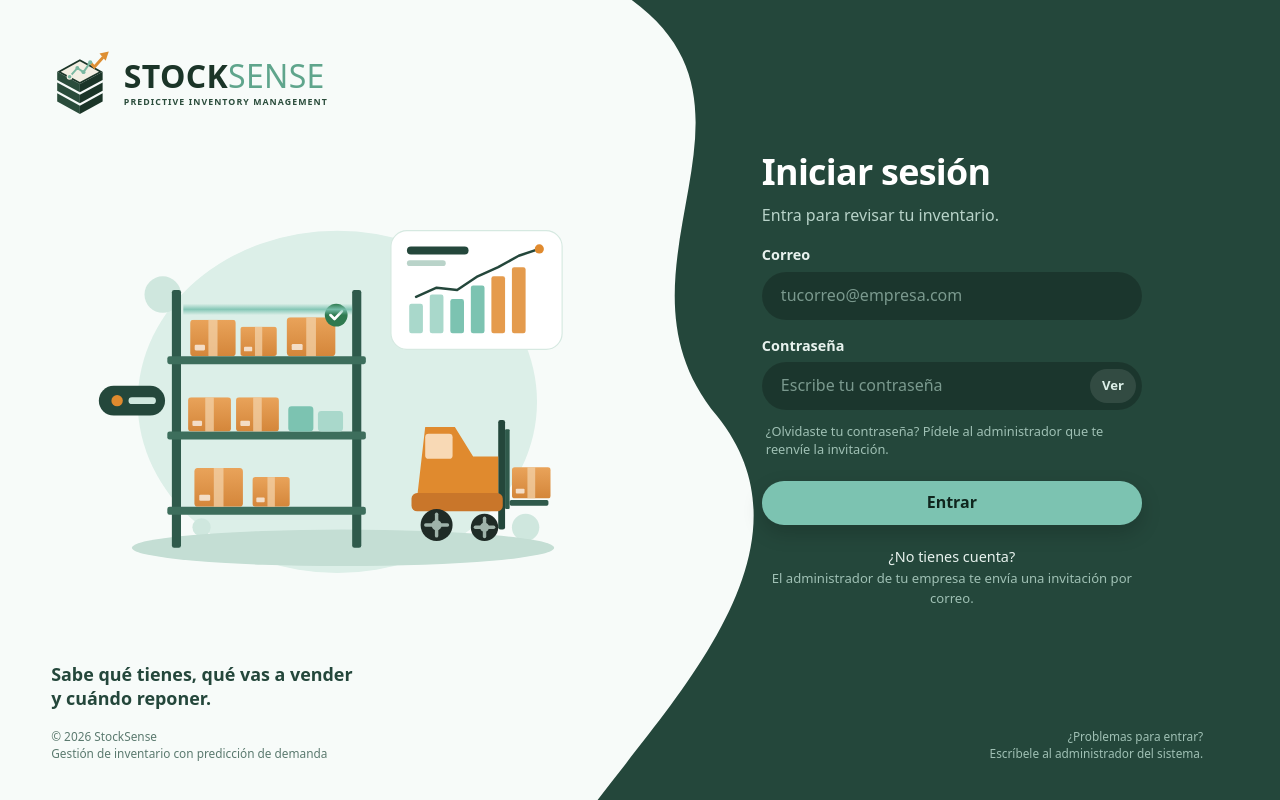
Test: Pantalla de login (T-01.3) › muestra el mensaje de bloqueo que envía la API
Type "laura@x.co" into the field labelled "Correo" at (952, 296), box [762,272,1142,320]
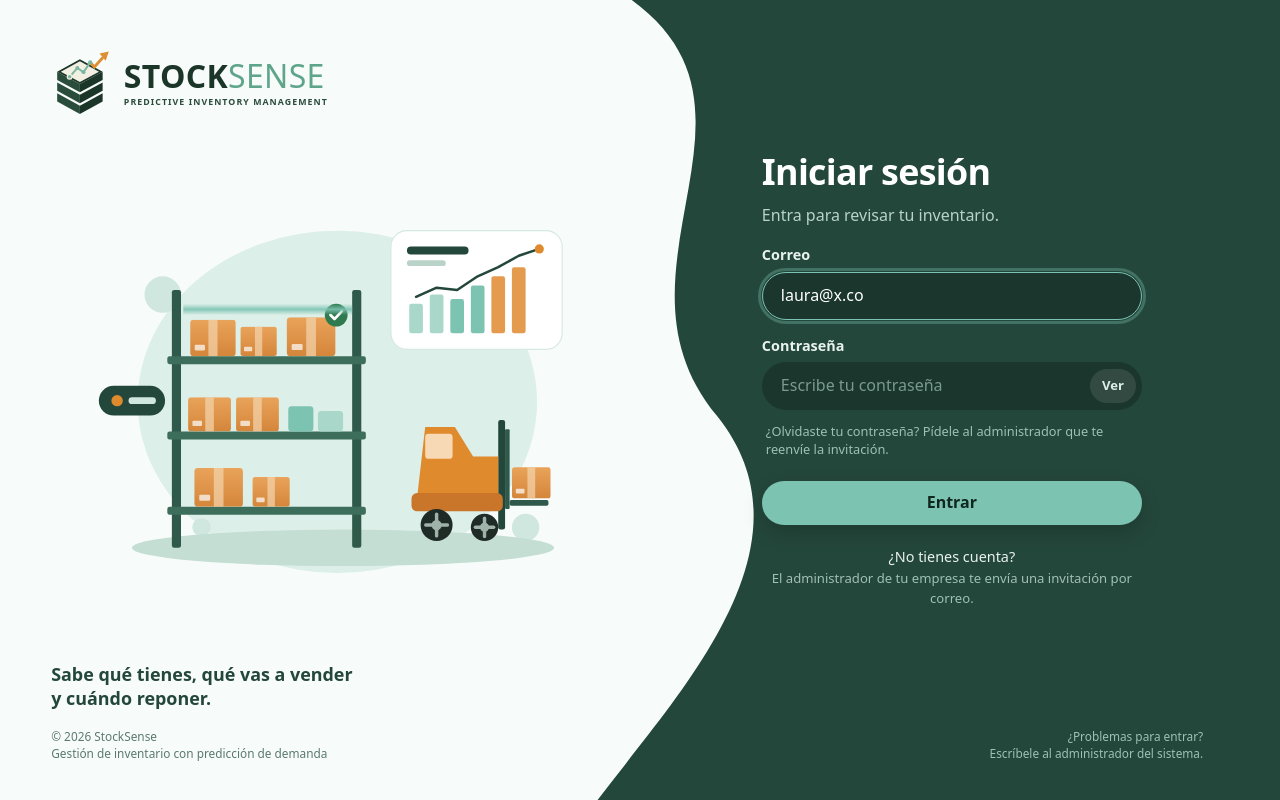
Type "algo" into the password field labelled "Contraseña" at (952, 386), box [762,362,1142,410]
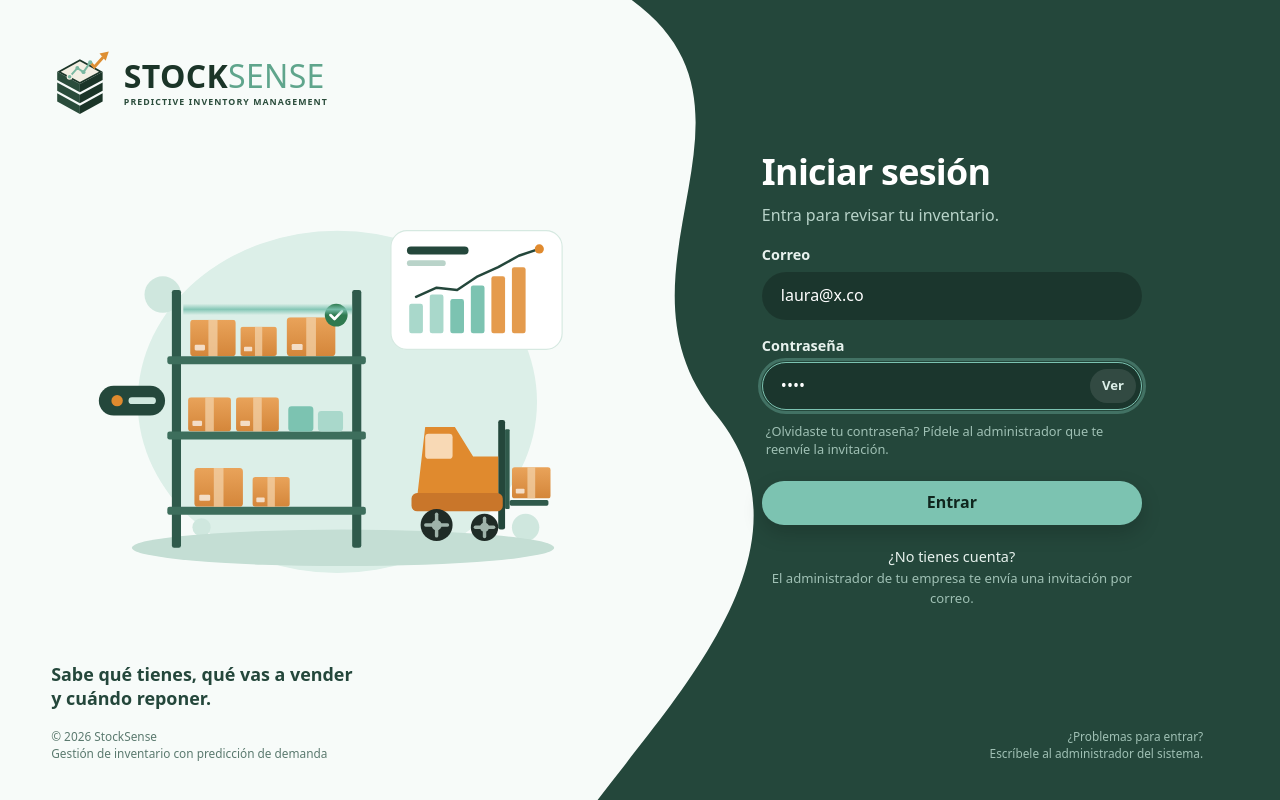
Click the button "Entrar" at (952, 503), box [762,481,1142,525]
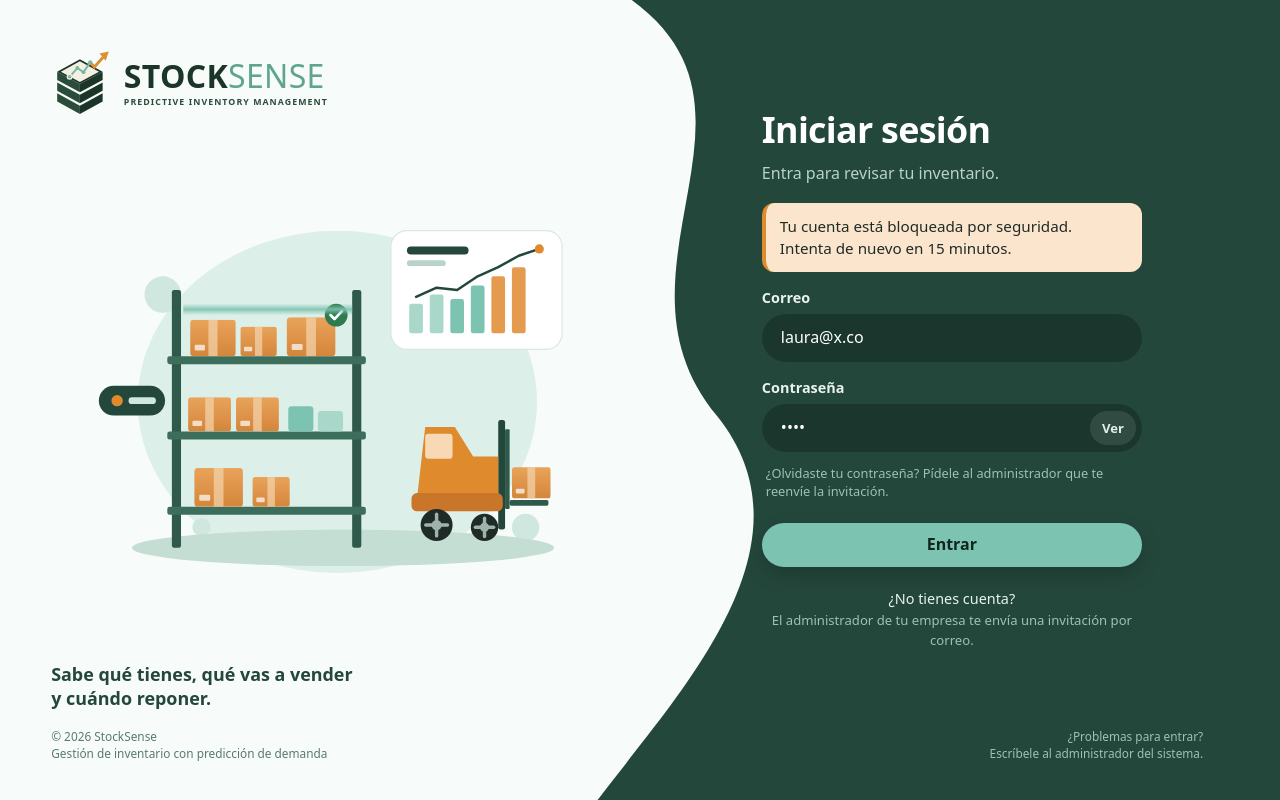
Expected: the text "Tu cuenta está bloqueada por seguridad. Intenta de nuevo en 15 minutos." is shown, [762,203,1142,272]
